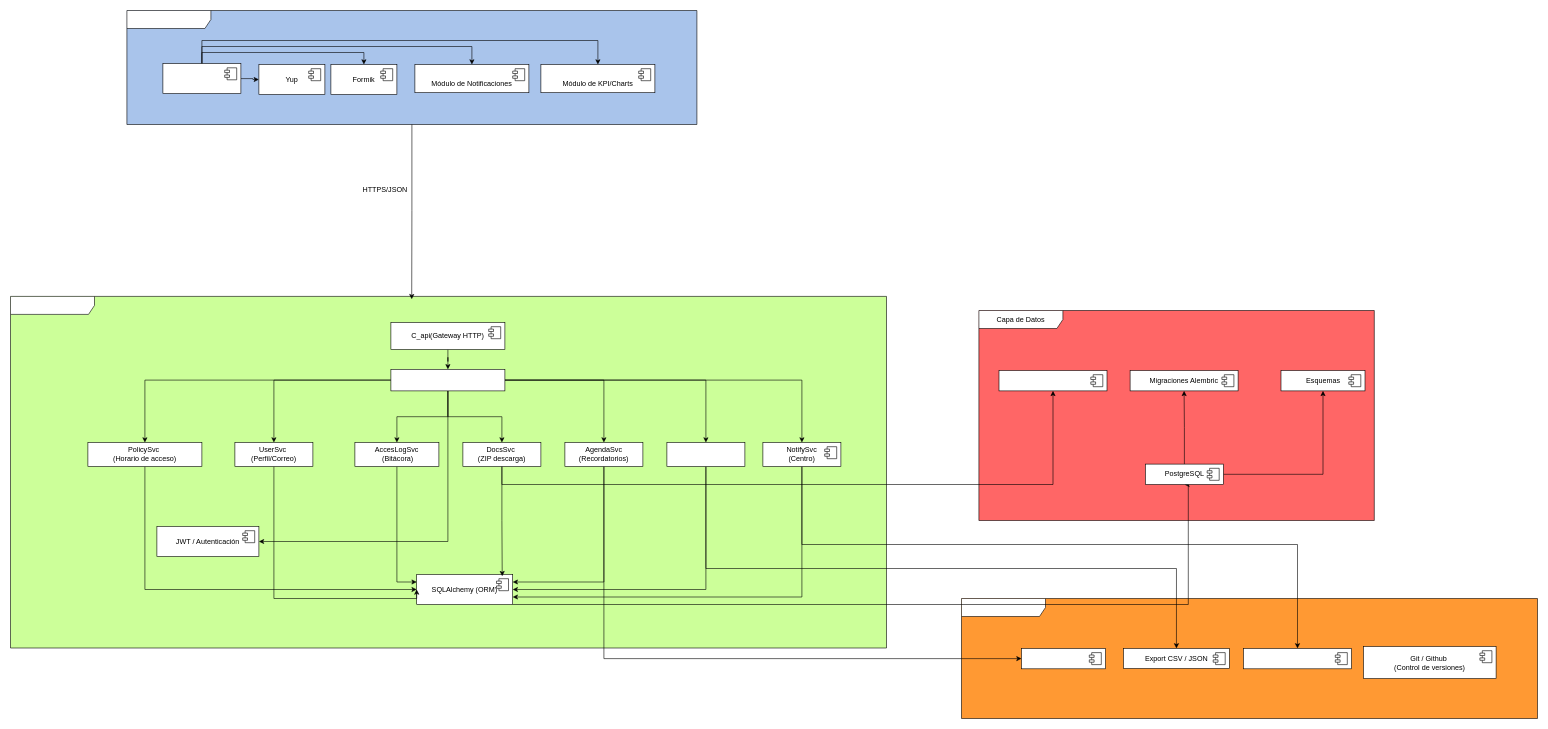
Image size: 1548x729. Some labels were removed from this diagram. Here are the shapes that lost their labels. From the top down, the box of each, then its label:
(162, 63, 241, 94): UI (React)
(126, 10, 697, 124): Capa Presentación
(390, 369, 505, 391): Controladores de Domnio
(998, 370, 1107, 391): Archivos y Evidencias
(10, 296, 886, 648): Capa de Negocio
(666, 442, 745, 466): StatsSvc (Agregaciones)
(1021, 648, 1106, 669): Job Scheduler
(961, 598, 1538, 718): Soporte
(1243, 648, 1352, 669): SMTP / Email Provider
